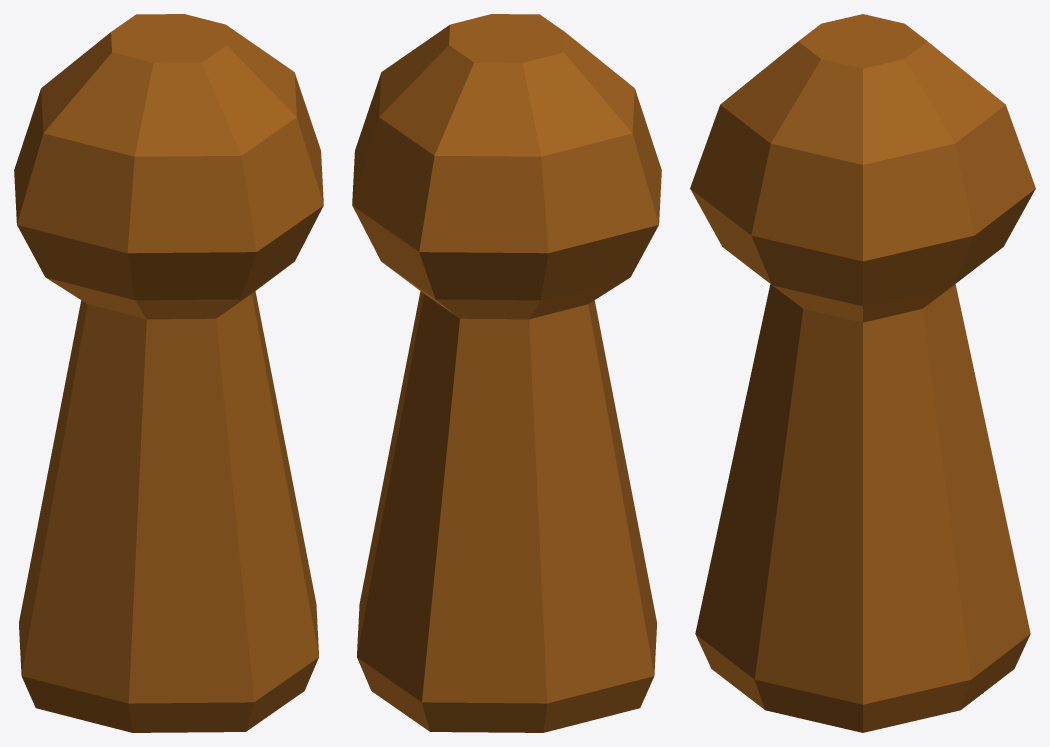
File: statue.glb
3 views of the same model, side by side, from view 1: azimuth 30°, elevation 25°; view 2: azimuth 150°, elevation 25°; view 3: azimuth 270°, elevation 25° (orthographic).
Parts seen in each view (by area): view 1: Cube; view 2: Cube; view 3: Cube.
Part boxes in pixels (x1,y1,x2,y2): Cube: [14, 14, 323, 732]; Cube: [352, 14, 661, 732]; Cube: [690, 14, 1035, 732].
Size of the model in its own units: 2.28 by 4.57 by 2.28.
